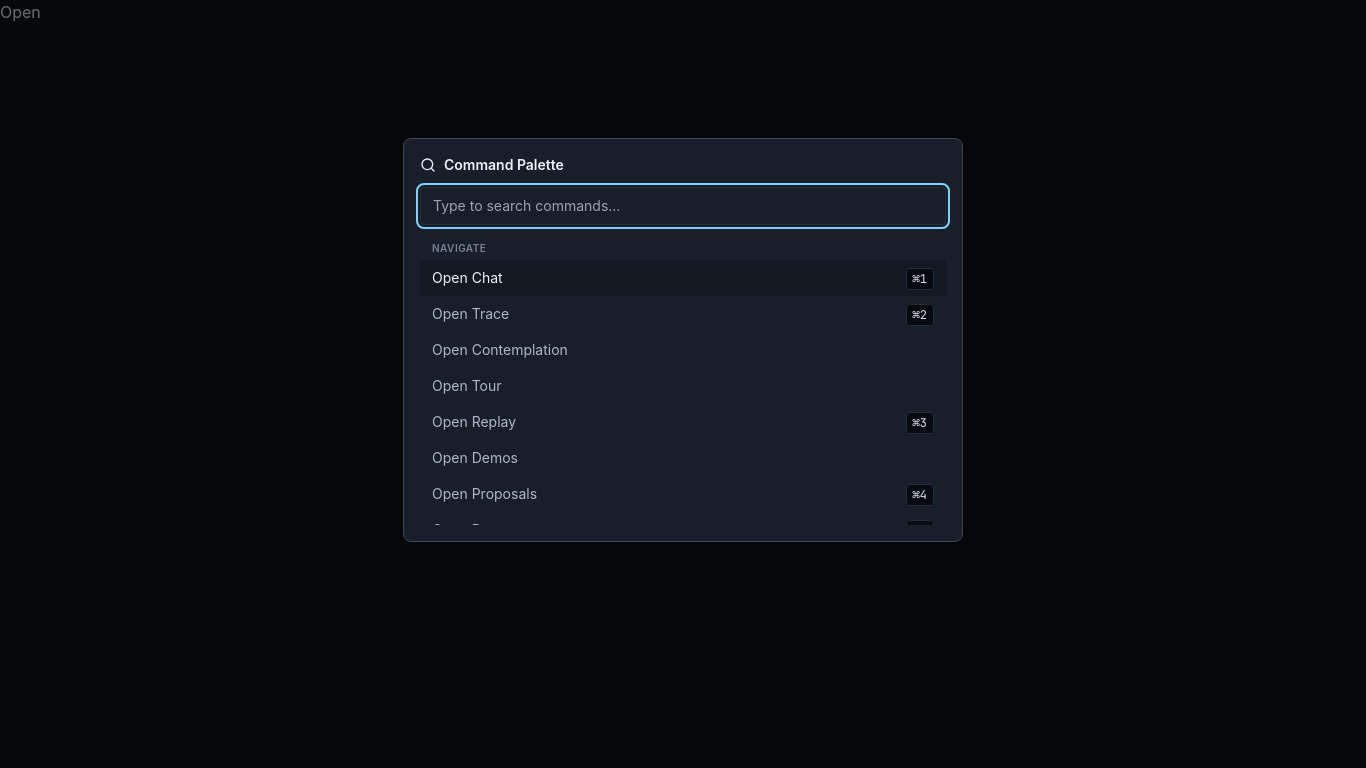
Test: CommandPalette keyboard contract › shows 'No commands match' when filter matches nothing
The image size is (1366, 768).
Type "zzznomatch" into the field labelled "search commands" at (683, 206), box [420,187,946,225]
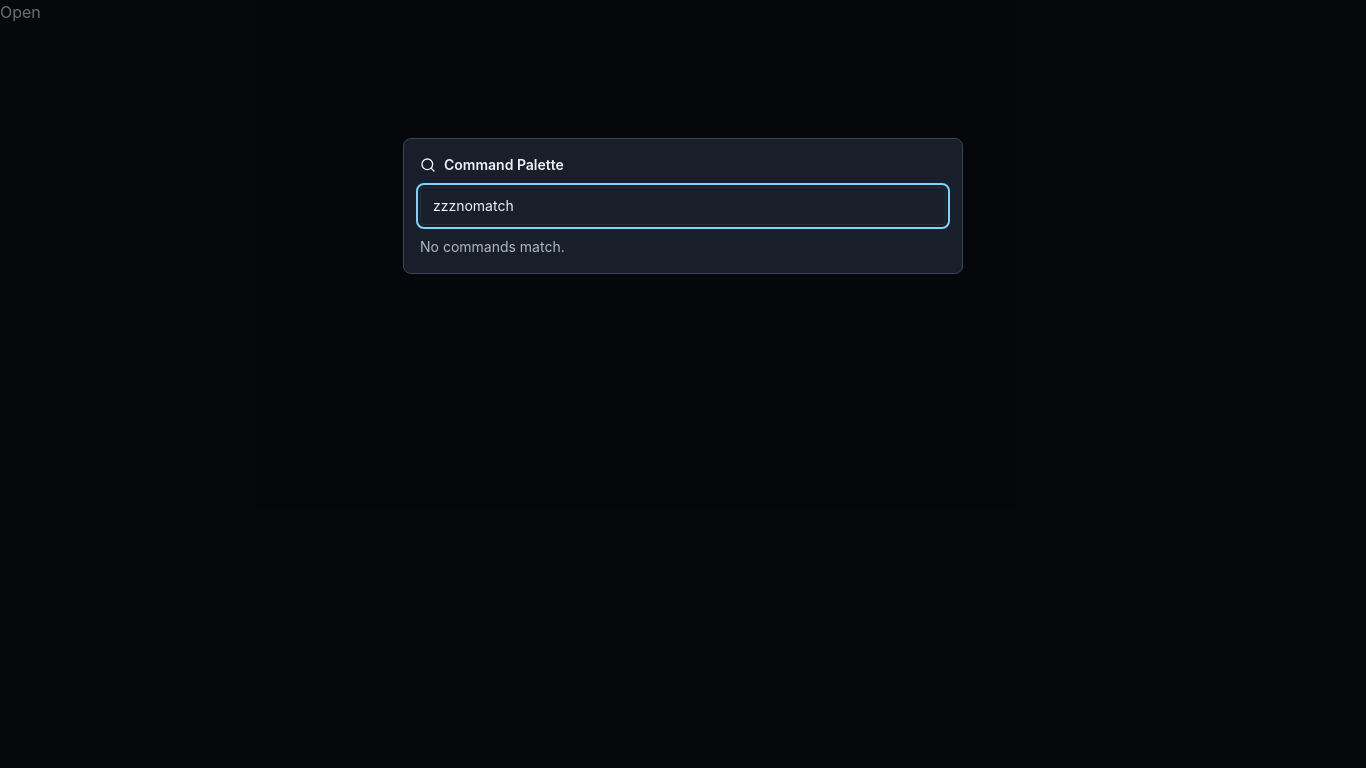
Now the text "No commands match." is shown, box [420,238,565,255]
